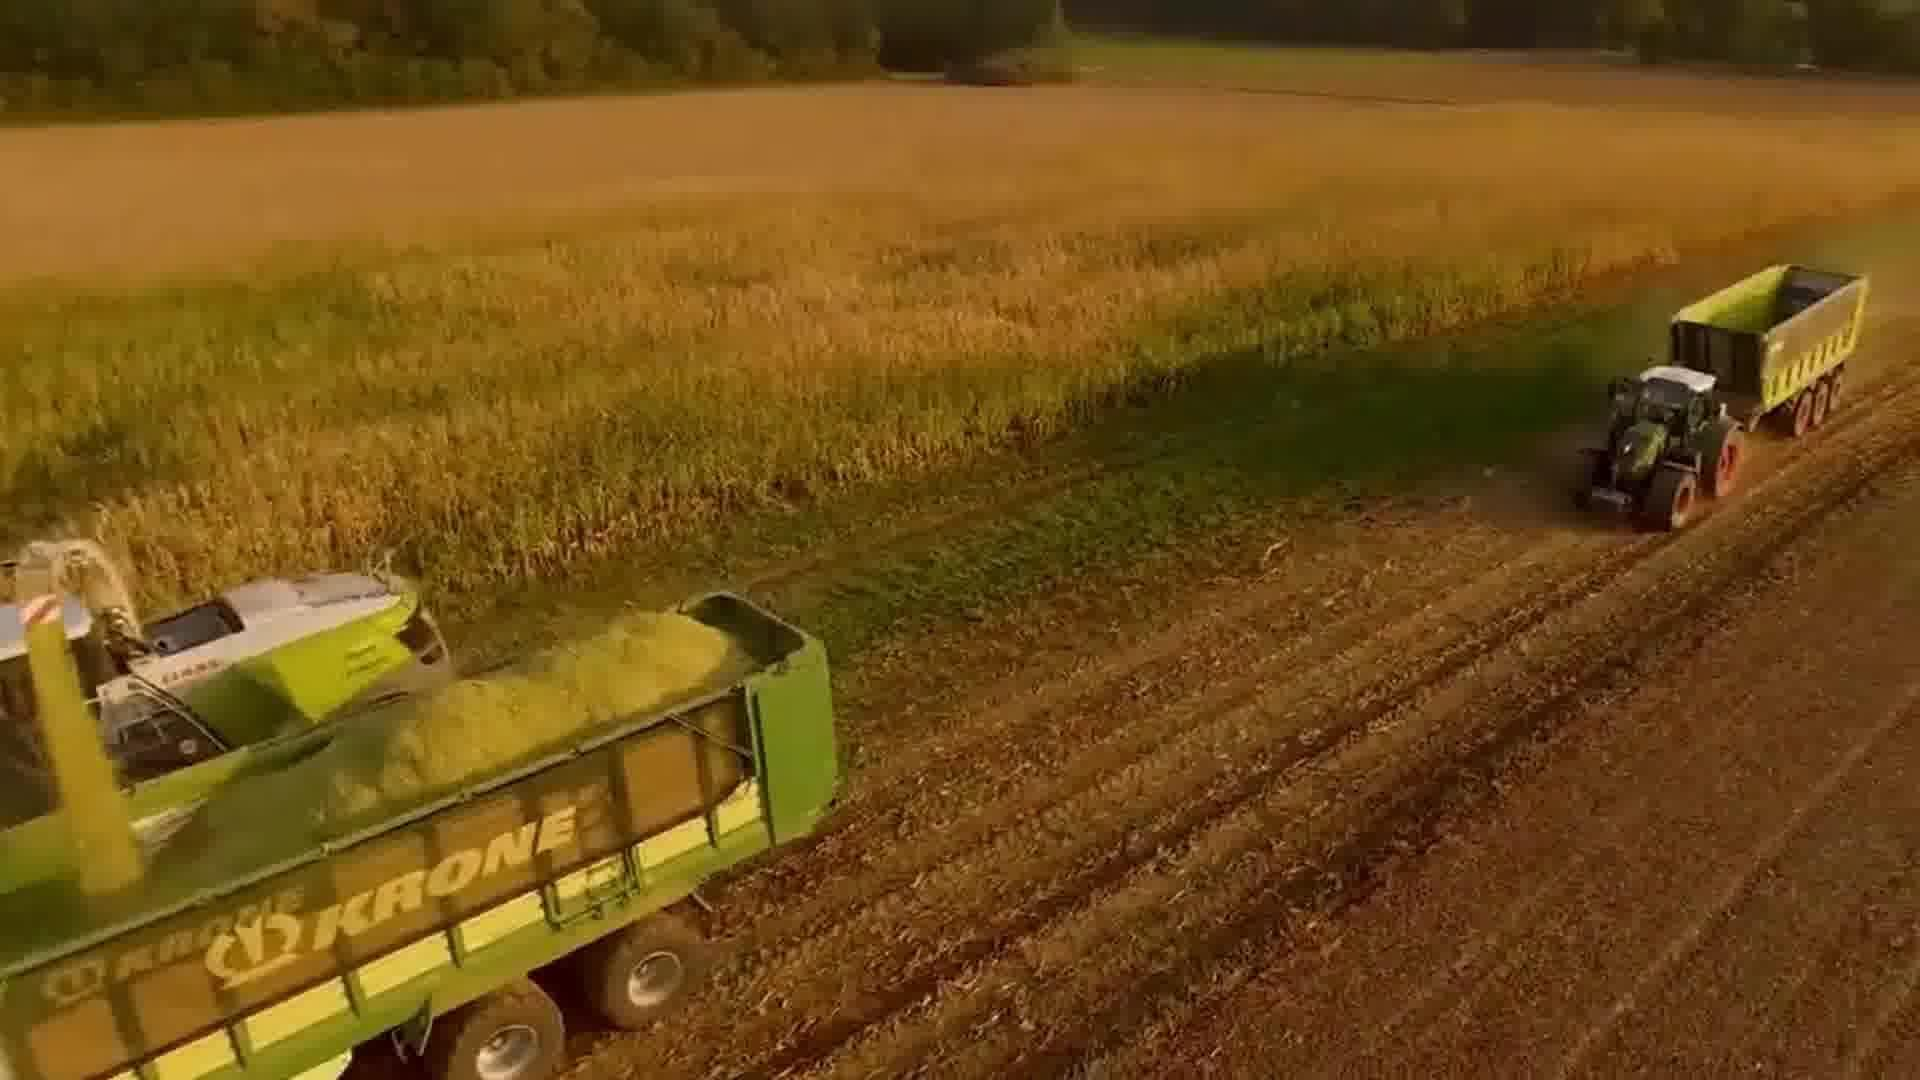combine harvester: (0, 534, 465, 816)
tractor: (1569, 359, 1750, 531)
trailer: (0, 578, 845, 1080), (1667, 256, 1874, 443)
